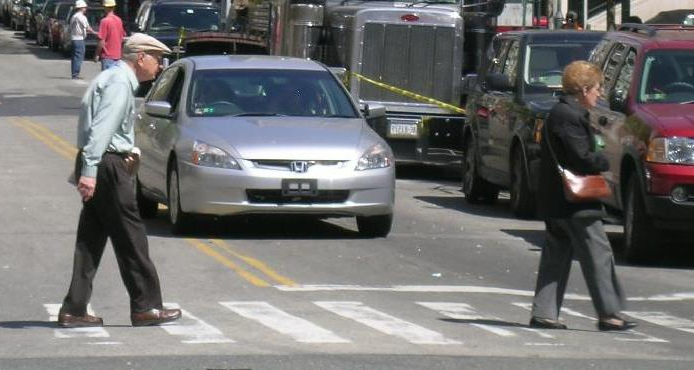pedestrian: (58, 33, 181, 328), (530, 61, 639, 330)
